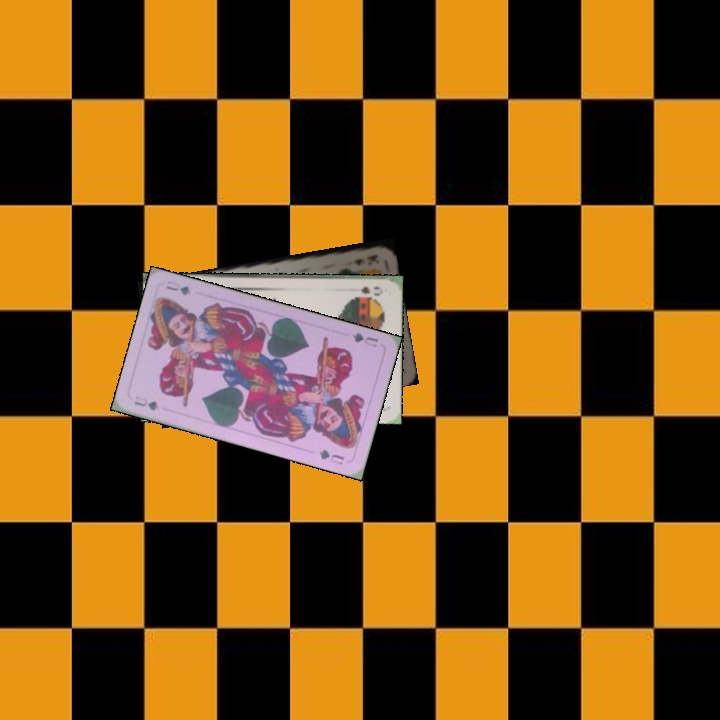EK: (350, 250, 381, 267)
GU: (348, 329, 381, 350), (130, 392, 162, 413)
SO: (357, 282, 386, 298)
